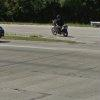Motorcycle: (43, 13, 74, 41)
